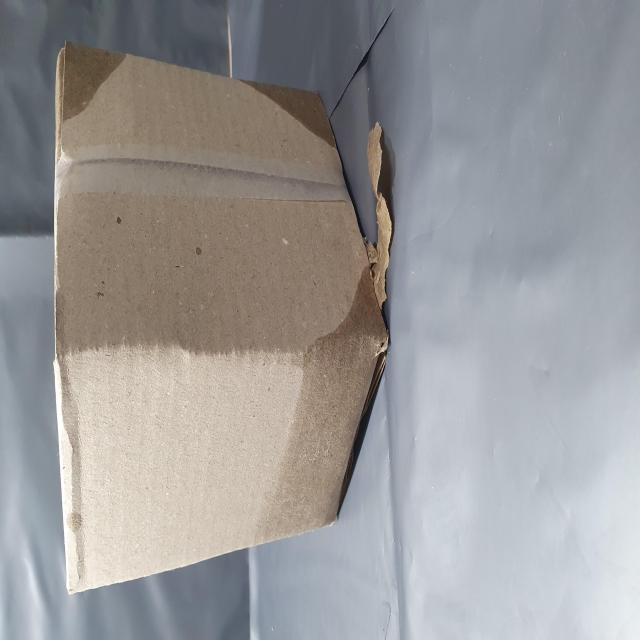wet: (46, 443, 190, 640), (285, 93, 345, 240), (278, 432, 317, 614)
